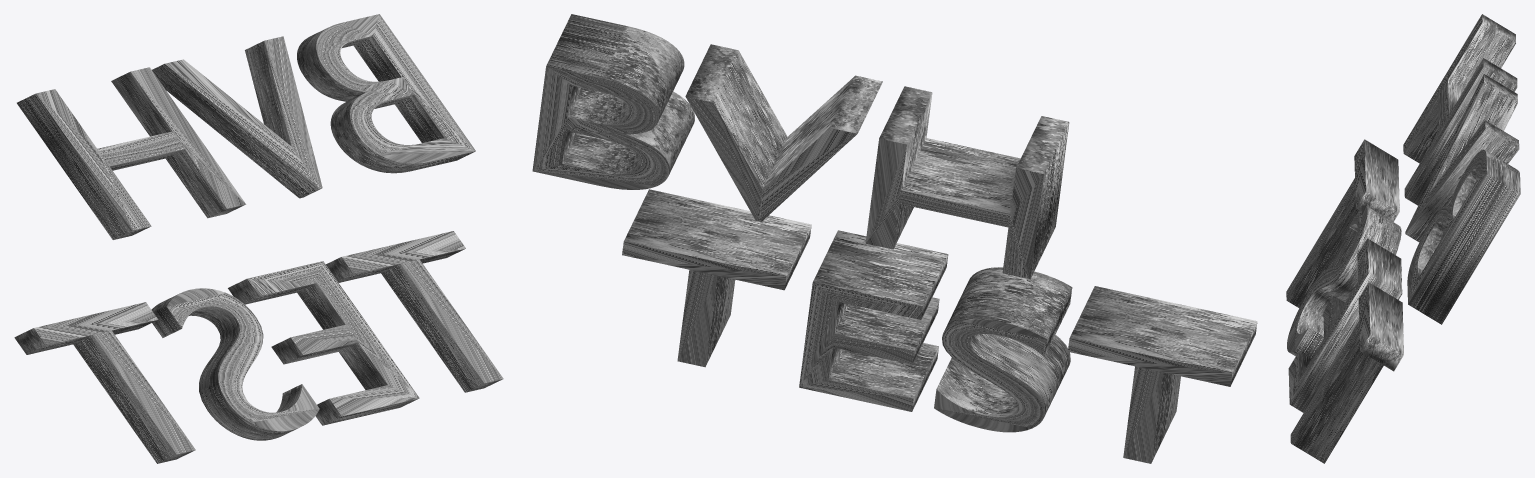
Rendered from Letter.obj.
3 views of the same model, side by side, from view 1: azimuth 30°, elevation 25°; view 2: azimuth 150°, elevation 25°; view 3: azimuth 270°, elevation 25° (orthographic). The views are drawn at different scales.
Visible parts, largest first — view 1: Text; view 2: Text; view 3: Text.
Part boxes in pixels (x1,y1,x2,y2): Text: [14, 14, 503, 463]; Text: [532, 14, 1257, 463]; Text: [1286, 14, 1520, 463].
Size of the model in its own units: 6.3 by 4.12 by 3.02.
